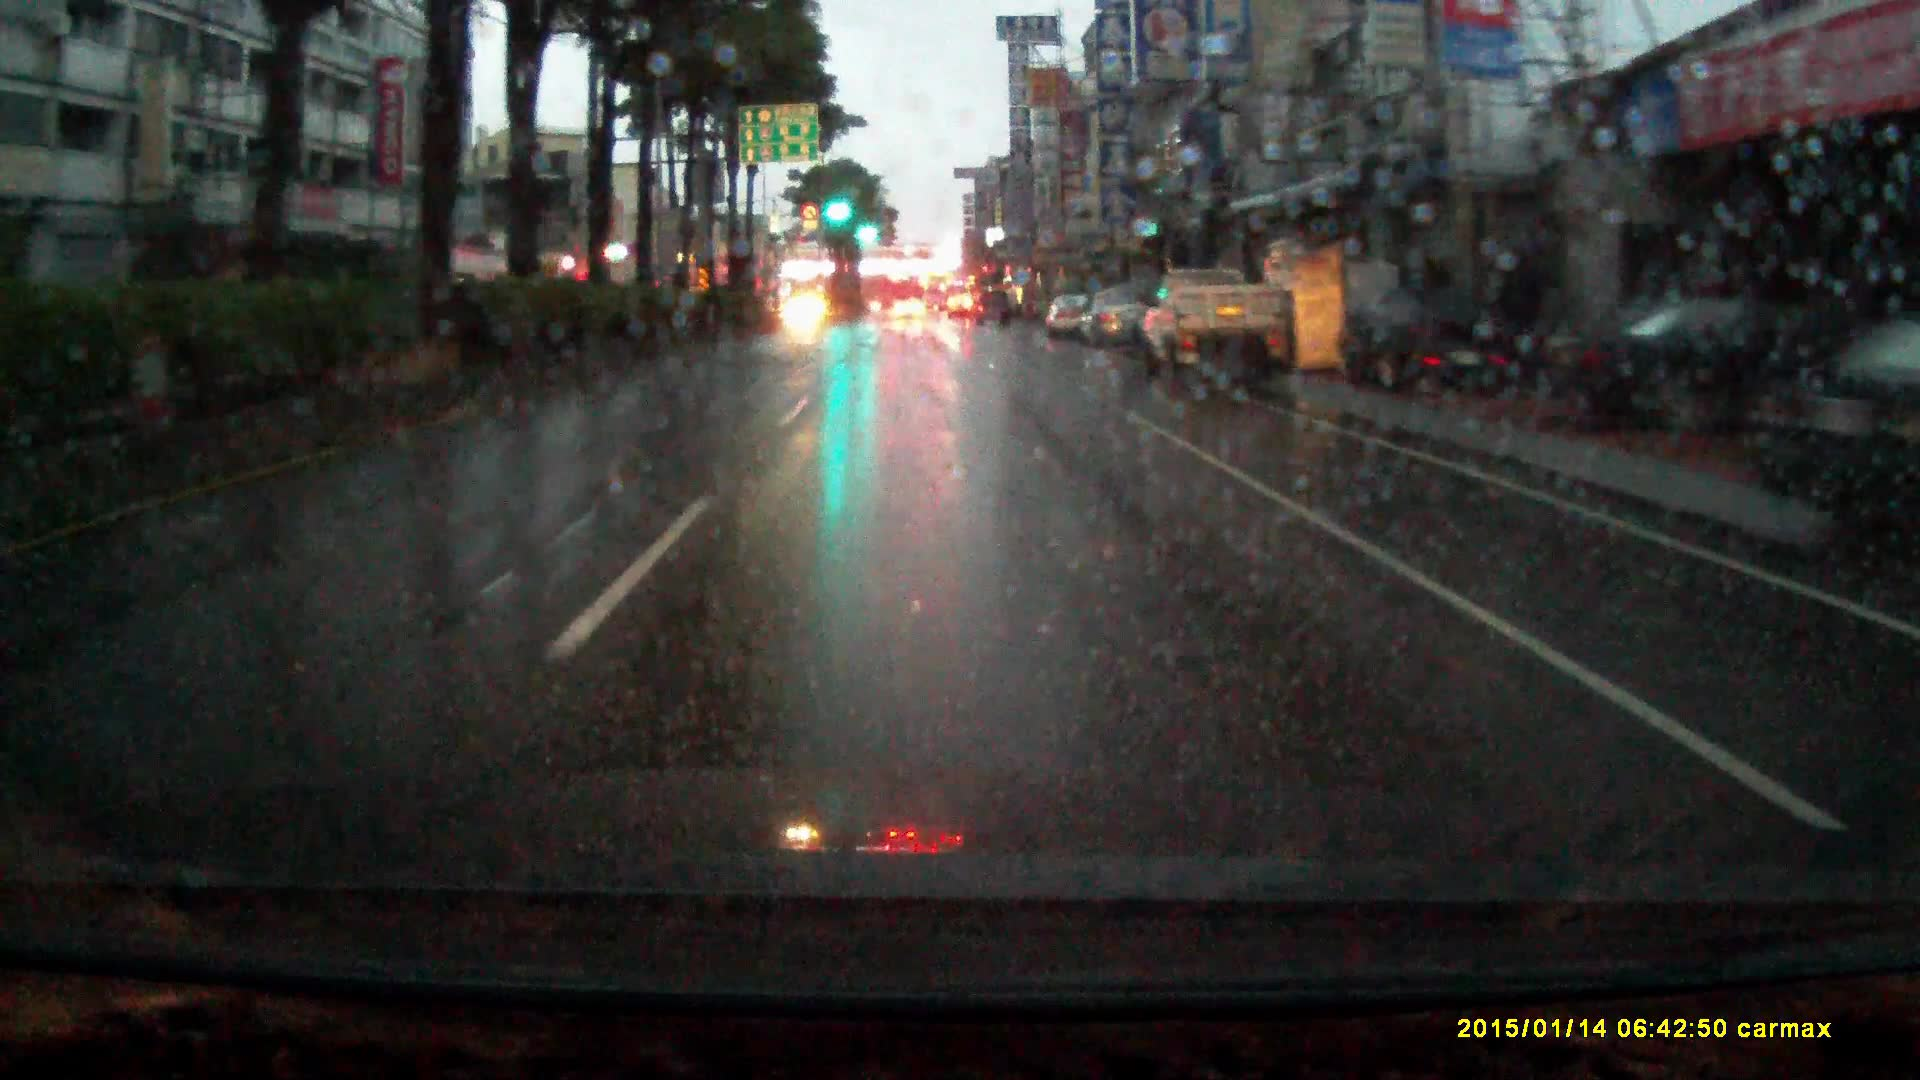vehicle: (1543, 298, 1891, 436), (1139, 266, 1290, 390), (1346, 291, 1516, 396), (1079, 287, 1146, 349), (1044, 291, 1092, 339), (783, 290, 827, 331), (975, 287, 1013, 324), (891, 297, 927, 320), (926, 276, 947, 313), (947, 291, 973, 318)
